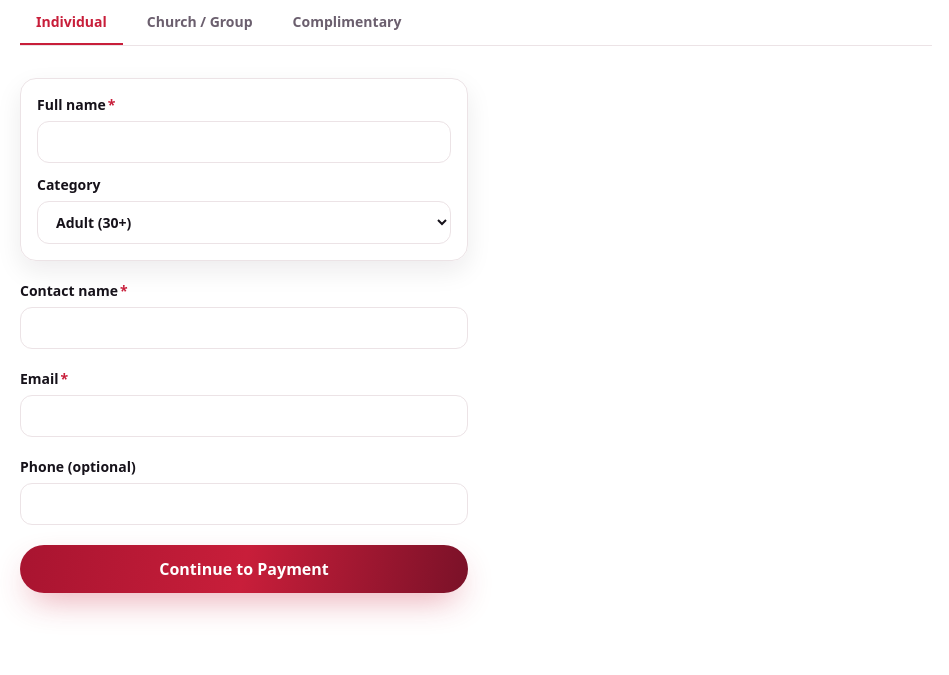
it: RegisterPageClient › shows an inline error instead of a native alert when the request fails
The width and height of the screenshot is (949, 675).
Type "Jane Doe" into the field labelled "Full name" at (244, 142), box [37, 121, 451, 163]
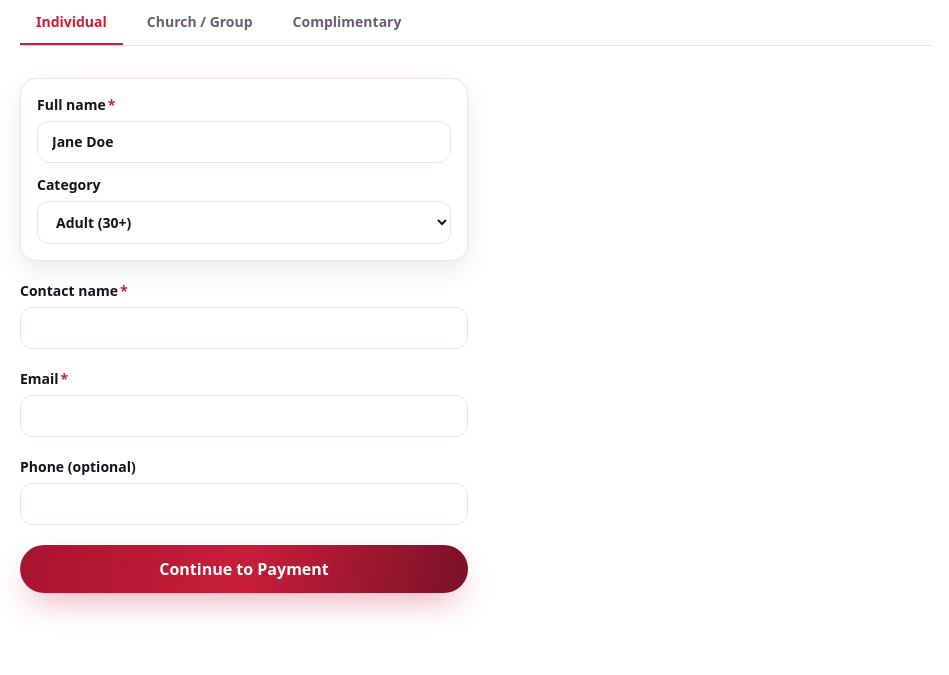
Type "Jane Doe" into the field labelled "Contact name" at (244, 328), box [20, 307, 468, 349]
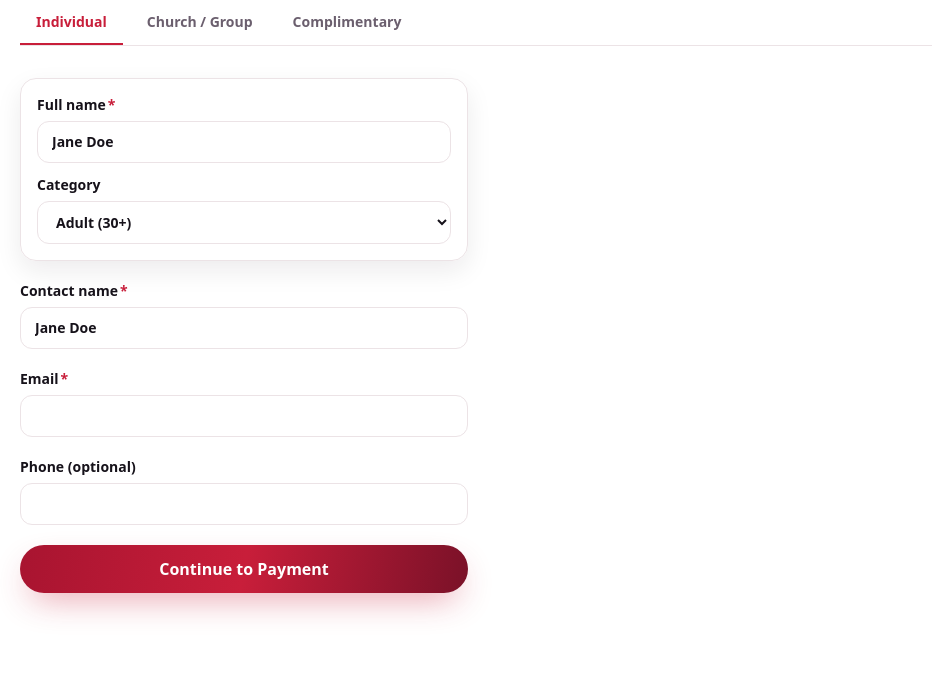
Type "jane@example.com" into the field labelled "Email" at (244, 416), box [20, 395, 468, 437]
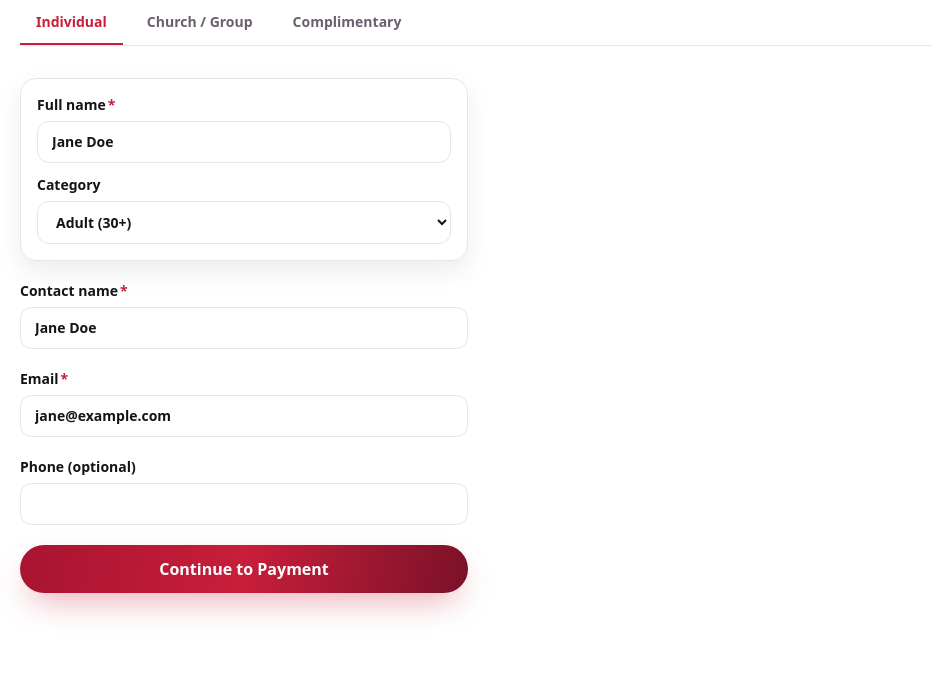
Click the button "Continue to Payment" at (244, 569), box [20, 545, 468, 593]
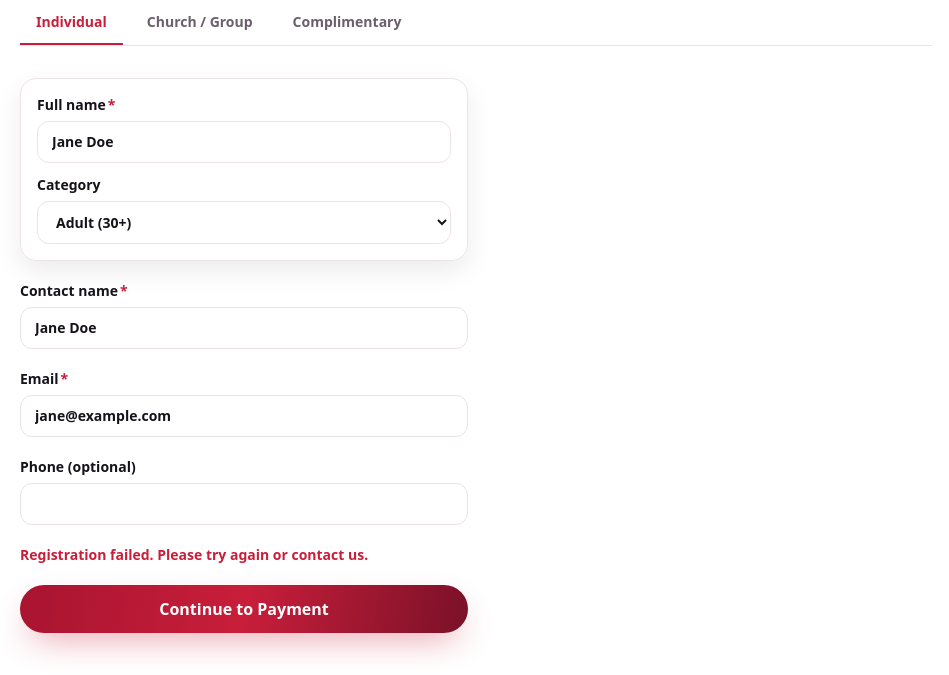
Expected: the button "Continue to Payment" is enabled, [20, 585, 468, 633]
Now the message reads "Registration failed. Please try again or contact us.", box [20, 545, 368, 564]
